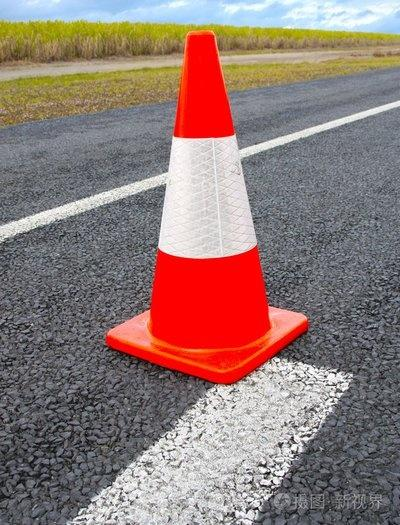cone_barrel: (131, 38, 282, 364)
